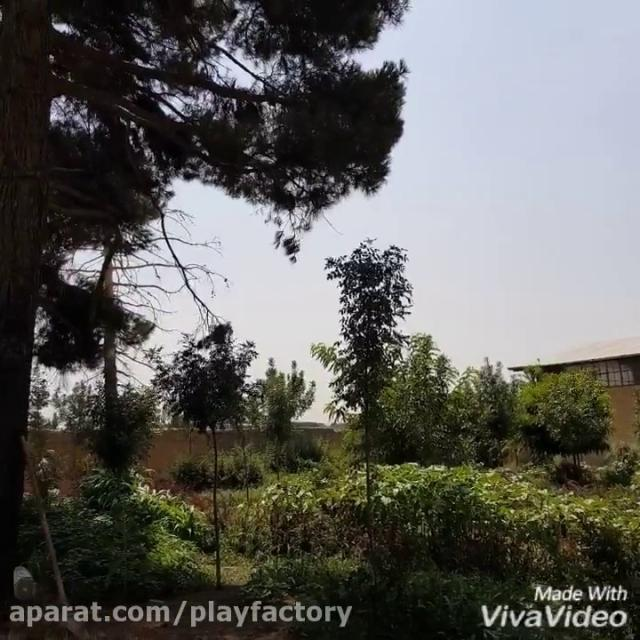drone: (362, 230, 382, 246)
